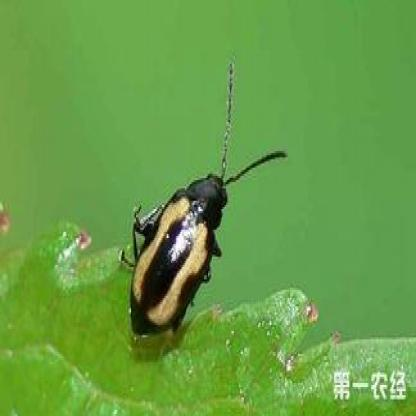beetle: (101, 56, 292, 374)
